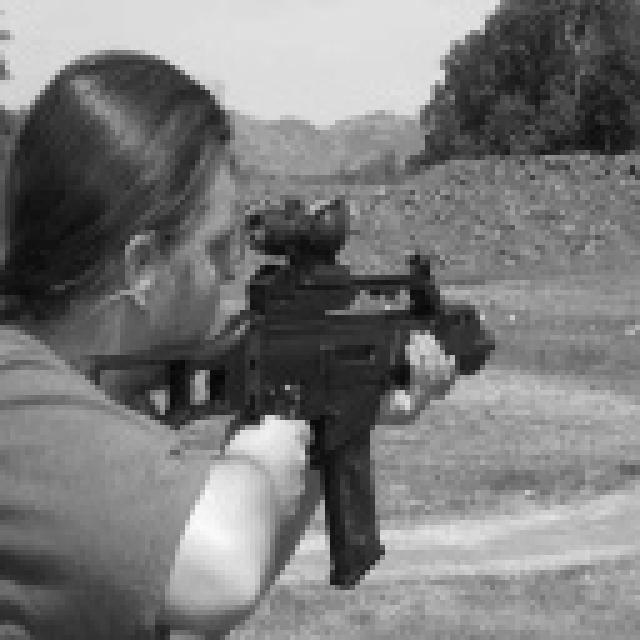Rifle: (52, 193, 543, 611)
